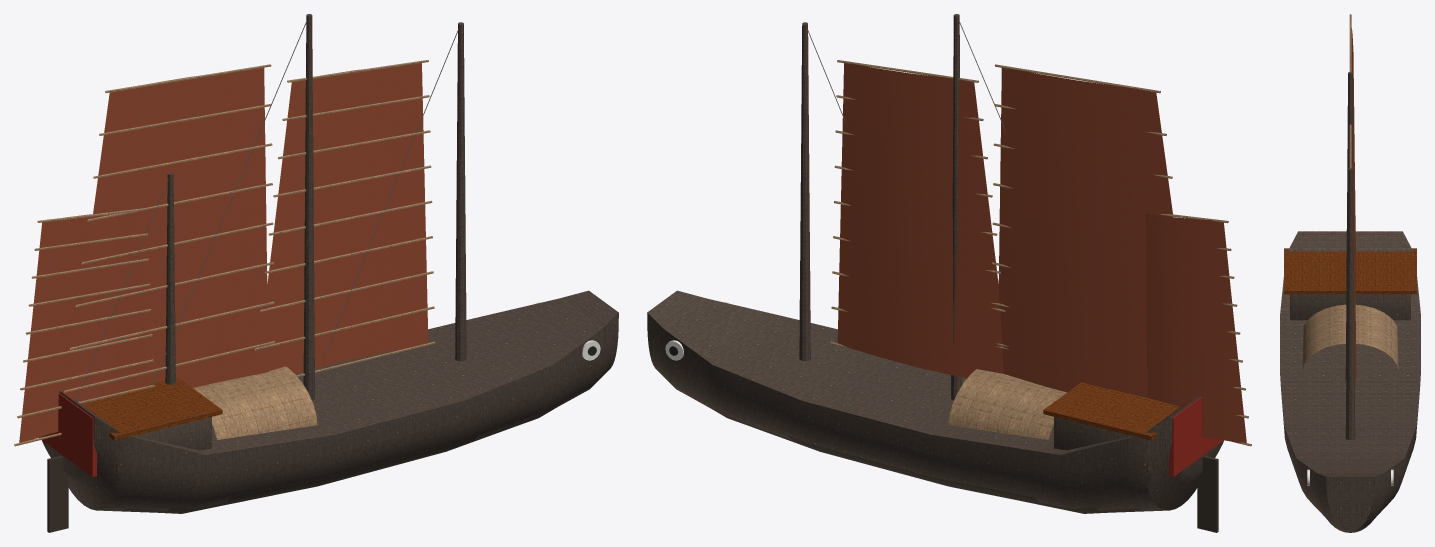
The model's file is harbor_junk.glb.
3 renders of one model, left to right at view 1: azimuth 30°, elevation 25°; view 2: azimuth 150°, elevation 25°; view 3: azimuth 270°, elevation 25°, orthographic. The views are drawn at different scales.
Parts seen in each view (by area): view 1: junk; view 2: junk; view 3: junk.
Boxes of the visible parts, bbox=[...] form: junk: bbox=[14, 14, 618, 532]; junk: bbox=[647, 14, 1251, 532]; junk: bbox=[1280, 14, 1420, 532].
Bounding box in the file's own units: 27.2 × 20.31 × 7.
9 materials, 4 textured.
